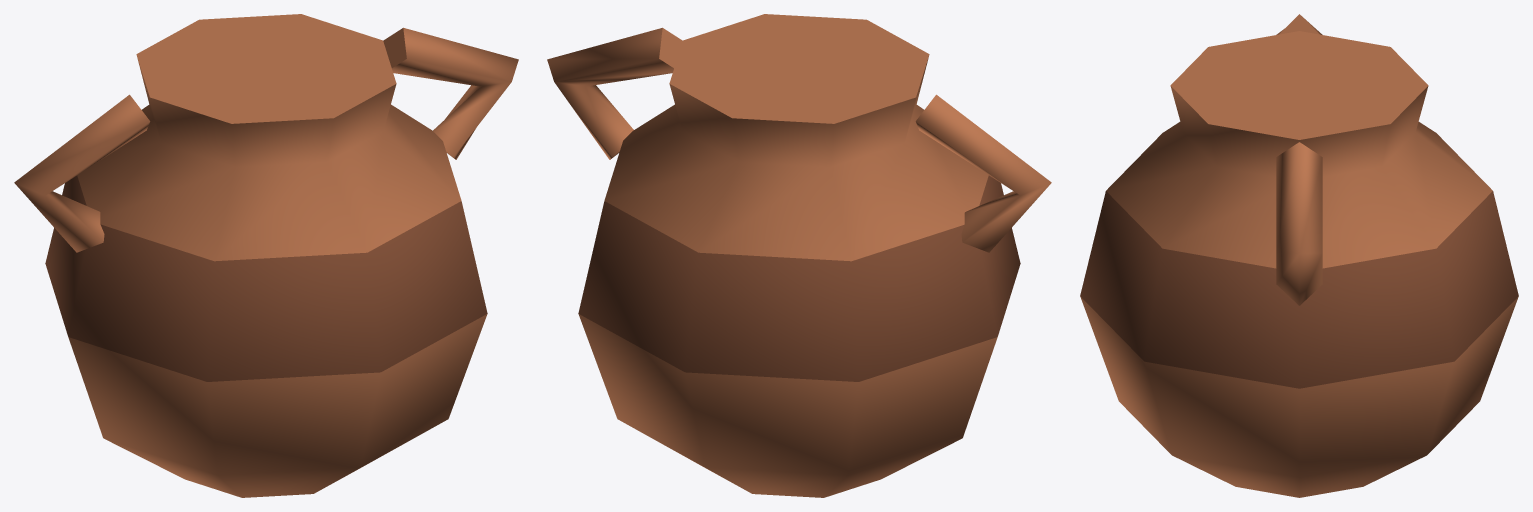
Rendered from pot.glb.
The picture shows the model from 3 angles, left to right: view 1: azimuth 30°, elevation 25°; view 2: azimuth 150°, elevation 25°; view 3: azimuth 270°, elevation 25°; orthographic projection. The views are drawn at different scales.
Visible parts, largest first — view 1: pot; view 2: pot; view 3: pot.
Part boxes in pixels (<box>): pot: <box>14,14,518,497</box>; pot: <box>547,14,1051,497</box>; pot: <box>1080,14,1518,497</box>.
Bounding box in the file's own units: 0.4329 × 0.3264 × 0.34.
